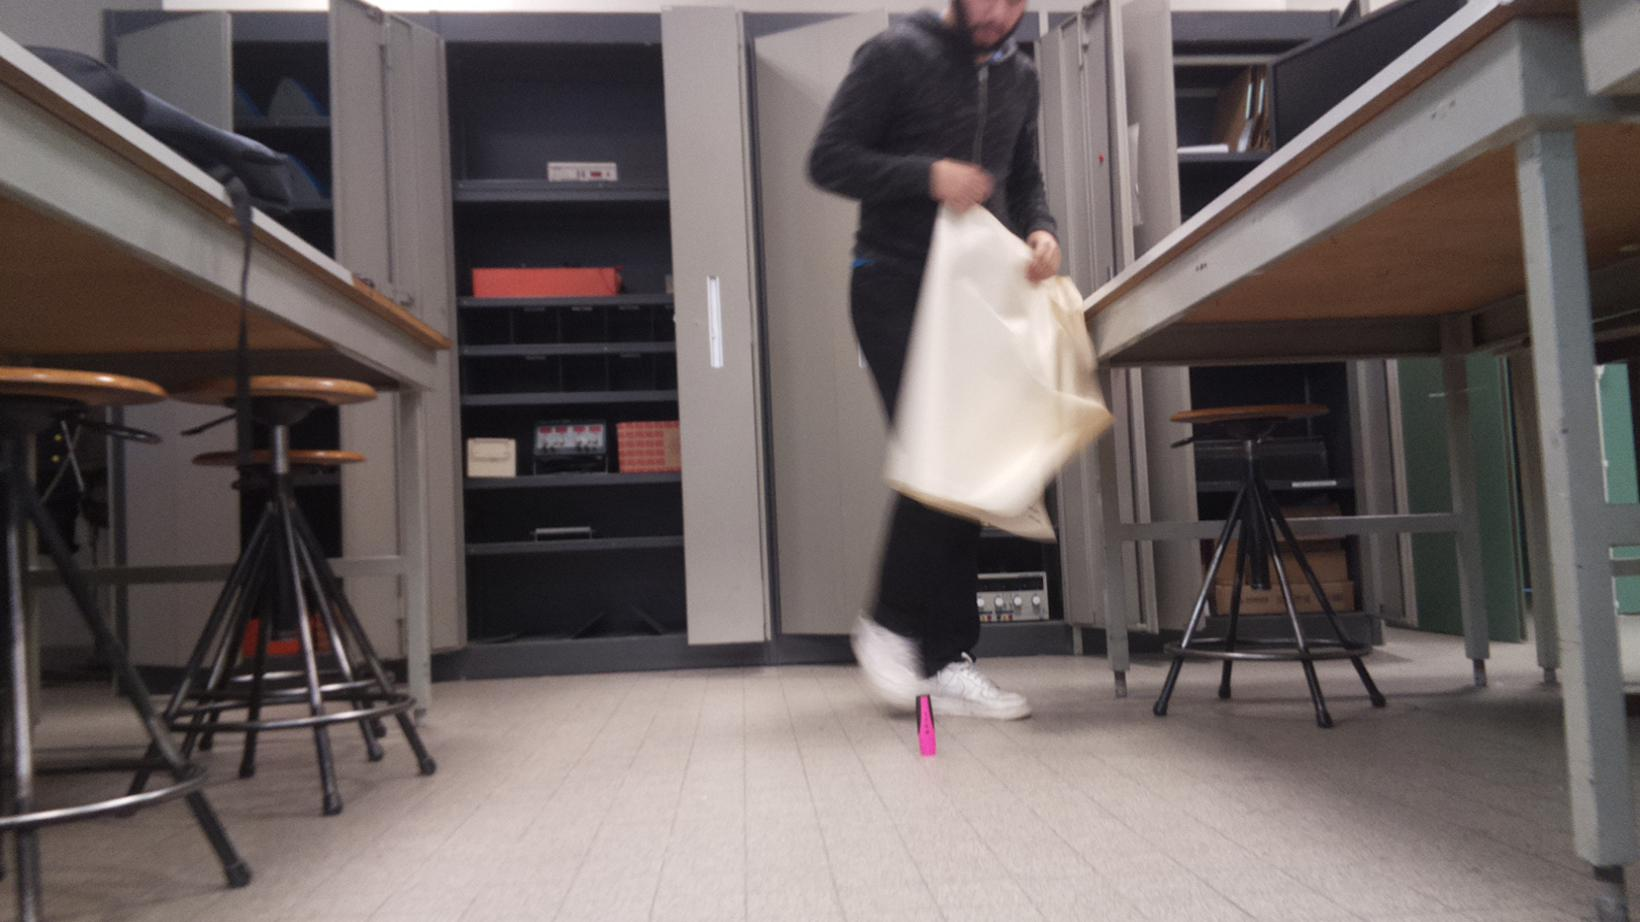small: (913, 692, 938, 758)
